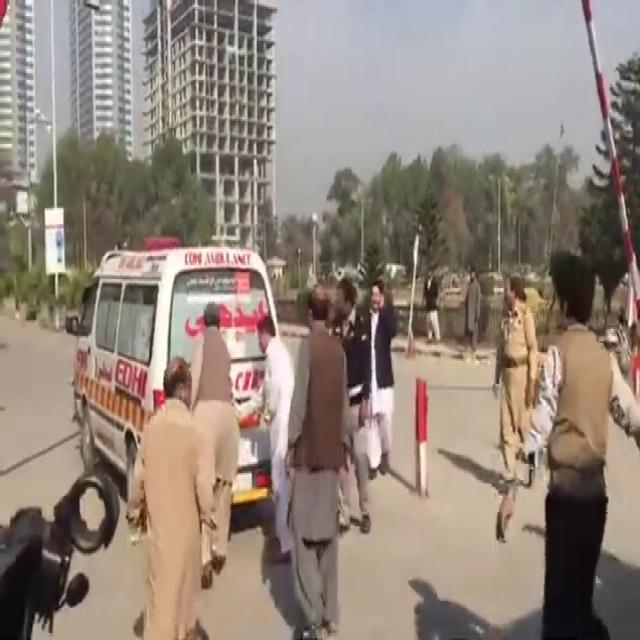ambulance: (74, 234, 309, 531)
